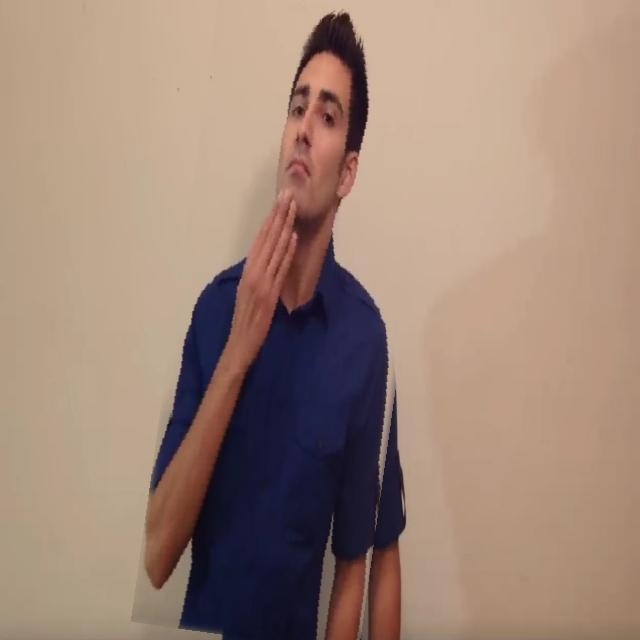ThankYou: (152, 0, 425, 640)
